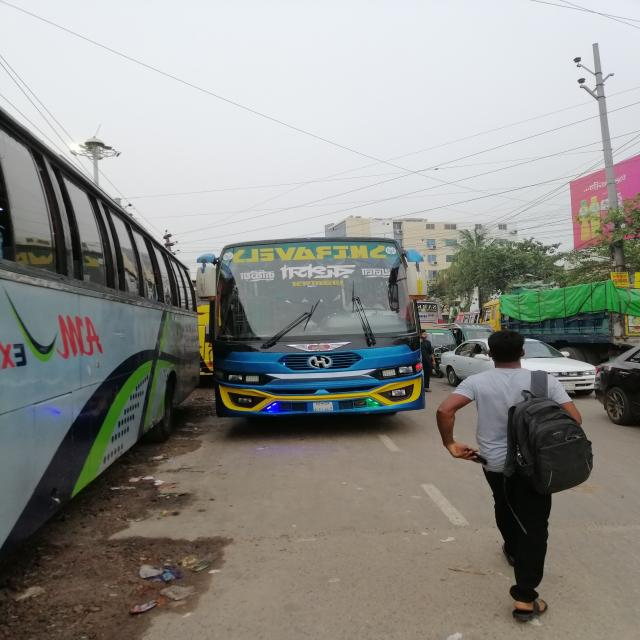Bus: (197, 235, 437, 426)
